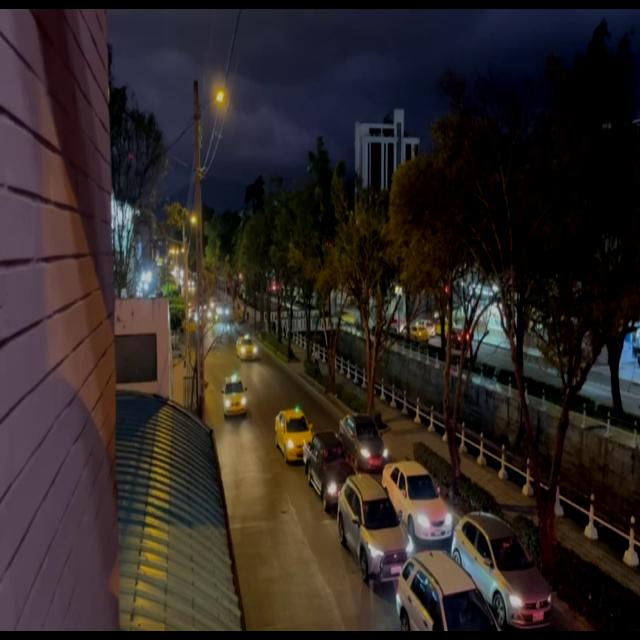CMT: (303, 434, 348, 504)
SUV: (395, 549, 483, 635), (340, 474, 398, 578), (347, 486, 406, 574)
